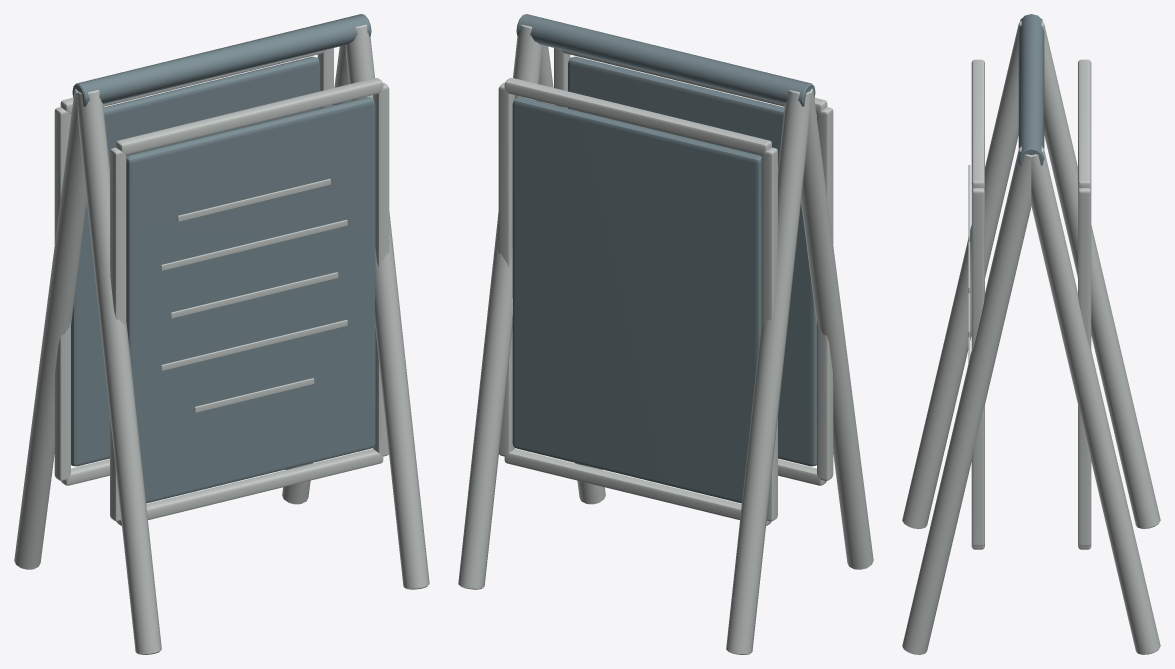
The model's file is menu-board.glb.
The picture shows the model from 3 angles, left to right: view 1: azimuth 30°, elevation 25°; view 2: azimuth 150°, elevation 25°; view 3: azimuth 270°, elevation 25°; orthographic projection. The views are drawn at different scales.
Visible parts, largest first — view 1: chalk_panel.001, chalk_panel, a_frame_leg.002, a_frame_leg, a_frame_leg.003, hinge, panel_frame_rail.003, panel_frame_rail.002, panel_frame_side, panel_frame_side.003, panel_frame_side.002, menu_rule.001 (+7 smaller); view 2: chalk_panel, chalk_panel.001, a_frame_leg, a_frame_leg.002, a_frame_leg.001, hinge, panel_frame_rail.001, panel_frame_rail, panel_frame_side.002, panel_frame_side.001, panel_frame_side, a_frame_leg.003 (+2 smaller); view 3: a_frame_leg.001, a_frame_leg.003, a_frame_leg, a_frame_leg.002, hinge, panel_frame_side.001, panel_frame_side.003, panel_frame_rail.001, panel_frame_rail.003.
Boxes of the visible parts, x1,y1,x2,y2 form: chalk_panel.001: (126, 97, 375, 503); chalk_panel: (71, 56, 319, 466); a_frame_leg.002: (76, 90, 161, 654); a_frame_leg: (14, 88, 86, 569); a_frame_leg.003: (345, 24, 429, 589); hinge: (72, 14, 371, 106); panel_frame_rail.003: (116, 78, 383, 154); panel_frame_rail.002: (116, 449, 383, 525); panel_frame_side: (54, 107, 70, 480); panel_frame_side.003: (373, 83, 389, 456); panel_frame_side.002: (110, 147, 126, 521); menu_rule.001: (161, 219, 347, 270); chalk_panel: (512, 97, 761, 503); chalk_panel.001: (568, 56, 816, 466); a_frame_leg: (726, 90, 811, 654); a_frame_leg.002: (801, 88, 873, 569); a_frame_leg.001: (458, 24, 542, 589); hinge: (516, 14, 815, 106); panel_frame_rail.001: (504, 78, 771, 154); panel_frame_rail: (504, 449, 771, 525); panel_frame_side.002: (817, 107, 833, 480); panel_frame_side.001: (498, 83, 514, 456); panel_frame_side: (761, 147, 777, 521); a_frame_leg.003: (537, 45, 605, 504); a_frame_leg.001: (1031, 146, 1160, 654); a_frame_leg.003: (902, 146, 1031, 654); a_frame_leg: (1041, 20, 1160, 528); a_frame_leg.002: (902, 20, 1021, 528); hinge: (1018, 14, 1044, 165); panel_frame_side.001: (1078, 188, 1091, 546); panel_frame_side.003: (971, 188, 984, 546); panel_frame_rail.001: (1078, 59, 1091, 189); panel_frame_rail.003: (971, 59, 984, 189).
Bounding box in the file's own units: 0.608 × 1.05 × 0.4861.
